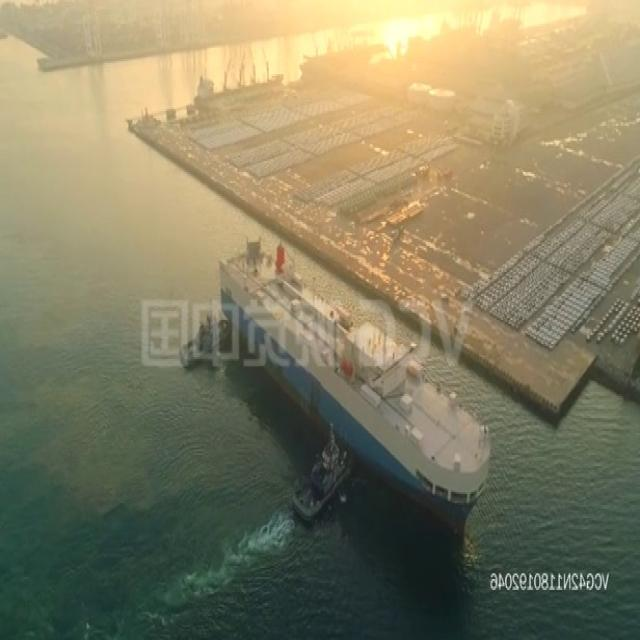cargoship: (221, 240, 491, 524)
houseboat: (291, 436, 354, 520), (177, 313, 228, 369)
